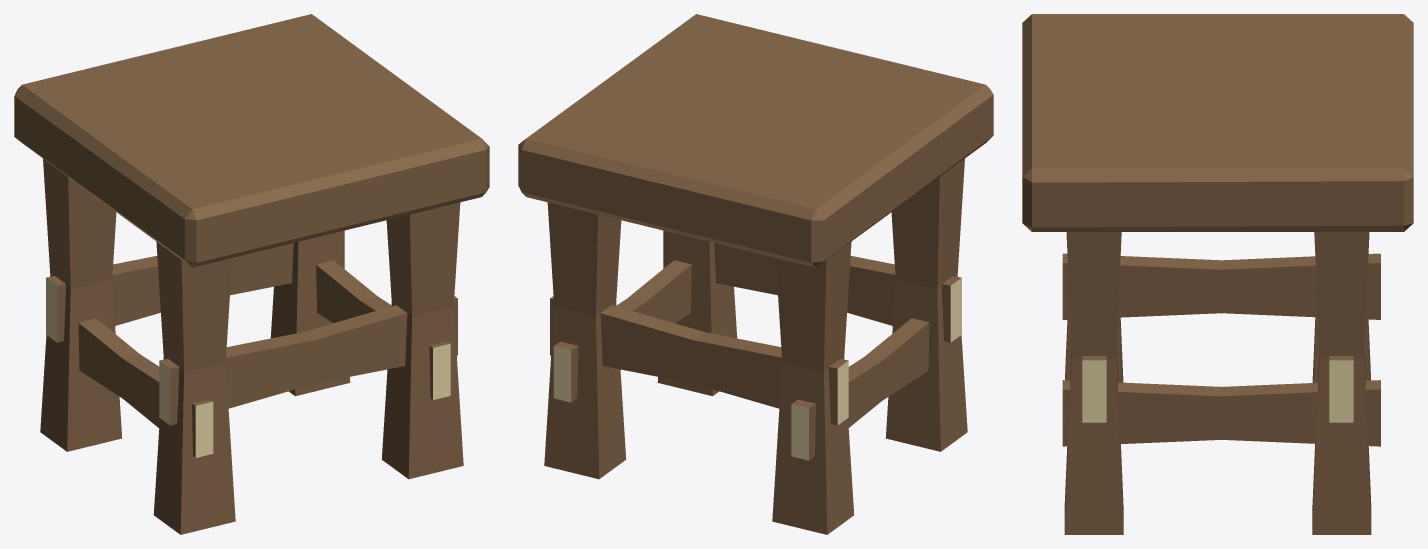
The model's file is SM_Stool.fbx.
3 renders of one model, left to right at view 1: azimuth 30°, elevation 25°; view 2: azimuth 150°, elevation 25°; view 3: azimuth 270°, elevation 25°, orthographic. The views are drawn at different scales.
Parts seen in each view (by area): view 1: SM_Stool_LOD0; view 2: SM_Stool_LOD0; view 3: SM_Stool_LOD0.
Part boxes in pixels (box(x1,y1,x2,y2)): SM_Stool_LOD0: box(14, 14, 489, 534); SM_Stool_LOD0: box(518, 14, 993, 534); SM_Stool_LOD0: box(1022, 14, 1413, 534).
Bounding box in the file's own units: 50.4 × 51.26 × 53.29.
1 material, 1 textured.
